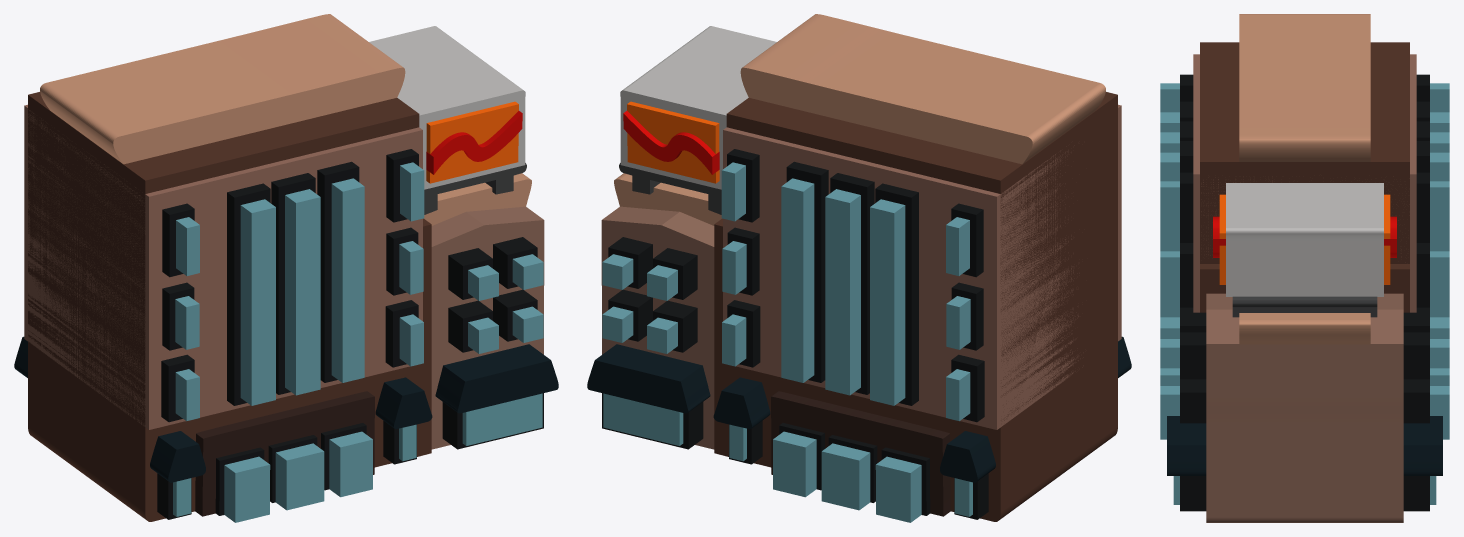
The picture shows the model from 3 angles, left to right: view 1: azimuth 30°, elevation 25°; view 2: azimuth 150°, elevation 25°; view 3: azimuth 270°, elevation 25°; orthographic projection. The views are drawn at different scales.
Visible parts, largest first — view 1: U+1F3EC_layer06_obj00, U+1F3EC_layer07_obj00, U+1F3EC_layer00_obj00, U+1F3EC_layer02_obj00, U+1F3EC_layer05_obj00, U+1F3EC_layer12_obj03, U+1F3EC_layer12_obj12, U+1F3EC_layer08_obj00, U+1F3EC_layer12_obj07, U+1F3EC_layer11_obj00, U+1F3EC_layer03_obj00, U+1F3EC_layer09_obj10 (+38 smaller); view 2: U+1F3EC_layer06_obj00, U+1F3EC_layer07_obj00, U+1F3EC_layer00_obj00, U+1F3EC_layer02_obj00, U+1F3EC_layer05_obj00, U+1F3EC_layer12_obj03, U+1F3EC_layer12_obj12, U+1F3EC_layer08_obj00, U+1F3EC_layer12_obj07, U+1F3EC_layer11_obj00, U+1F3EC_layer03_obj00, U+1F3EC_layer09_obj10 (+38 smaller); view 3: U+1F3EC_layer05_obj00, U+1F3EC_layer00_obj00, U+1F3EC_layer06_obj00, U+1F3EC_layer02_obj00, U+1F3EC_layer11_obj00, U+1F3EC_layer00_obj01, U+1F3EC_layer07_obj00, U+1F3EC_layer12_obj07, U+1F3EC_layer01_obj00, U+1F3EC_layer09_obj11, U+1F3EC_layer09_obj18, U+1F3EC_layer12_obj08 (+19 smaller).
Part boxes in pixels (x1,y1,x2,y2): U+1F3EC_layer06_obj00: (28,92,431,521); U+1F3EC_layer07_obj00: (24,104,422,429); U+1F3EC_layer00_obj00: (40,14,405,164); U+1F3EC_layer02_obj00: (369,26,525,189); U+1F3EC_layer05_obj00: (431,206,544,449); U+1F3EC_layer12_obj03: (240,199,275,405); U+1F3EC_layer12_obj12: (285,189,320,395); U+1F3EC_layer08_obj00: (195,391,374,516); U+1F3EC_layer12_obj07: (331,178,364,382); U+1F3EC_layer11_obj00: (435,344,558,413); U+1F3EC_layer03_obj00: (426,101,518,183); U+1F3EC_layer09_obj10: (227,183,270,405); U+1F3EC_layer06_obj00: (714,92,1117,521); U+1F3EC_layer07_obj00: (723,104,1121,429); U+1F3EC_layer00_obj00: (740,14,1105,164); U+1F3EC_layer02_obj00: (620,26,776,189); U+1F3EC_layer05_obj00: (601,206,714,449); U+1F3EC_layer12_obj03: (870,199,905,405); U+1F3EC_layer12_obj12: (825,189,860,395); U+1F3EC_layer08_obj00: (771,391,950,516); U+1F3EC_layer12_obj07: (781,178,814,382); U+1F3EC_layer11_obj00: (587,344,710,413); U+1F3EC_layer03_obj00: (627,101,719,183); U+1F3EC_layer09_obj10: (875,183,918,405); U+1F3EC_layer05_obj00: (1206,293,1403,522); U+1F3EC_layer00_obj00: (1239,14,1370,161); U+1F3EC_layer06_obj00: (1200,42,1409,312); U+1F3EC_layer02_obj00: (1226,183,1383,296); U+1F3EC_layer11_obj00: (1167,416,1442,475); U+1F3EC_layer00_obj01: (1239,313,1370,344); U+1F3EC_layer07_obj00: (1193,54,1416,312); U+1F3EC_layer12_obj07: (1160,152,1449,317); U+1F3EC_layer01_obj00: (1232,296,1377,317); U+1F3EC_layer09_obj11: (1180,379,1429,423); U+1F3EC_layer09_obj18: (1180,332,1429,375); U+1F3EC_layer12_obj08: (1160,181,1449,230).
Size of the model in its own units: 0.3296 by 0.2799 by 0.22.
